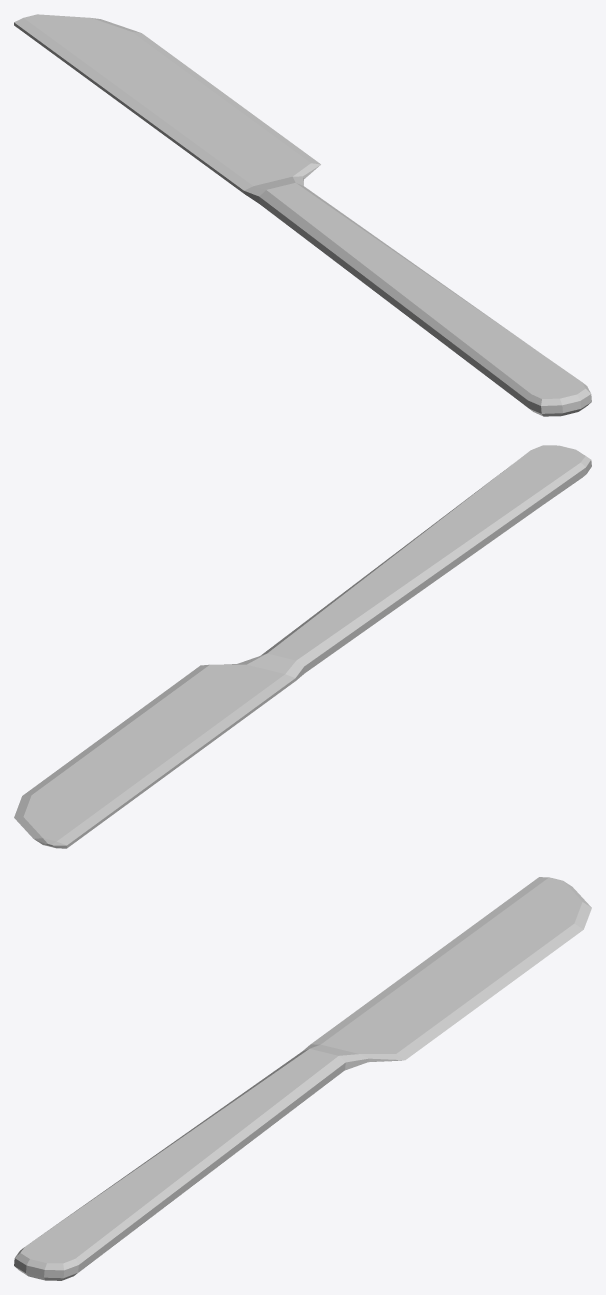
File: R_Knife.fbx
3 views of the same model, one above another, from view 1: azimuth 30°, elevation 25°; view 2: azimuth 150°, elevation 25°; view 3: azimuth 330°, elevation 25° (orthographic).
Visible parts, largest first — view 1: R_Knife; view 2: R_Knife; view 3: R_Knife.
Boxes of the visible parts, box(x1,y1,x2,y2) form: R_Knife: box(14, 14, 591, 416); R_Knife: box(14, 445, 591, 848); R_Knife: box(14, 877, 591, 1280).
Size of the model in its own units: 14.76 by 151 by 2.61.
